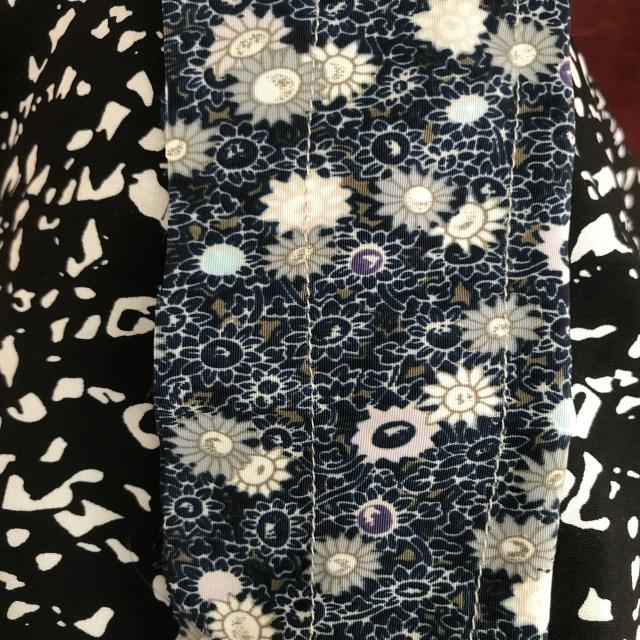good: (298, 318, 322, 524), (484, 433, 510, 517)
